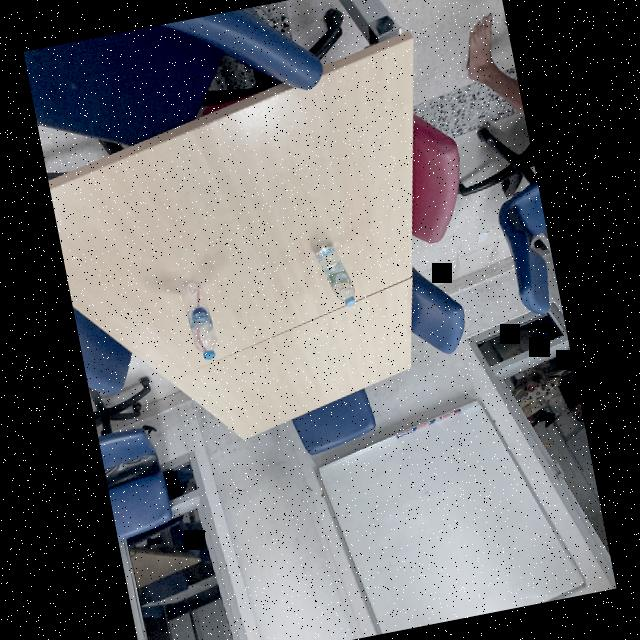plastic_bottle: (178, 278, 222, 364), (312, 238, 358, 312)
